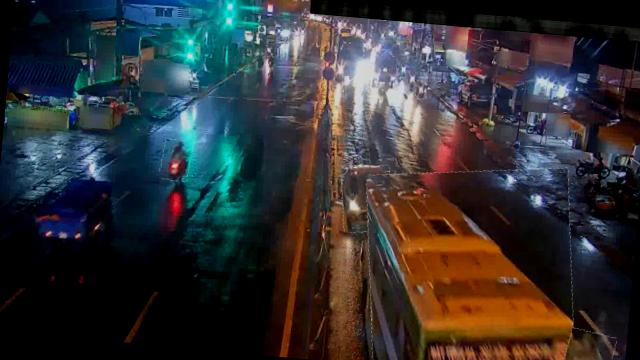Bike: (561, 328, 615, 360), (160, 140, 192, 183), (414, 80, 428, 100)
Bus: (356, 157, 586, 360)
Car: (338, 163, 396, 235)
